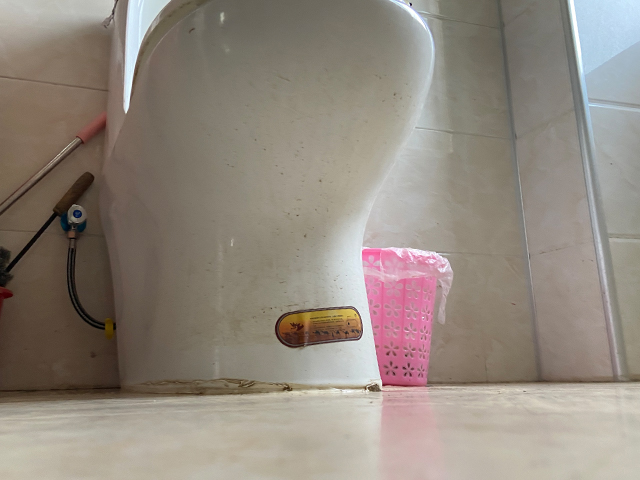closestool: (98, 1, 437, 399)
trashcan: (361, 245, 454, 388)
